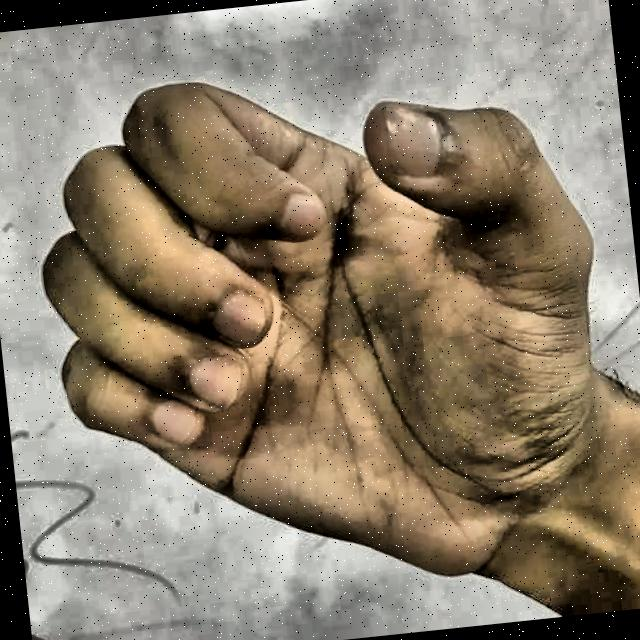Dho: (6, 19, 640, 640)
